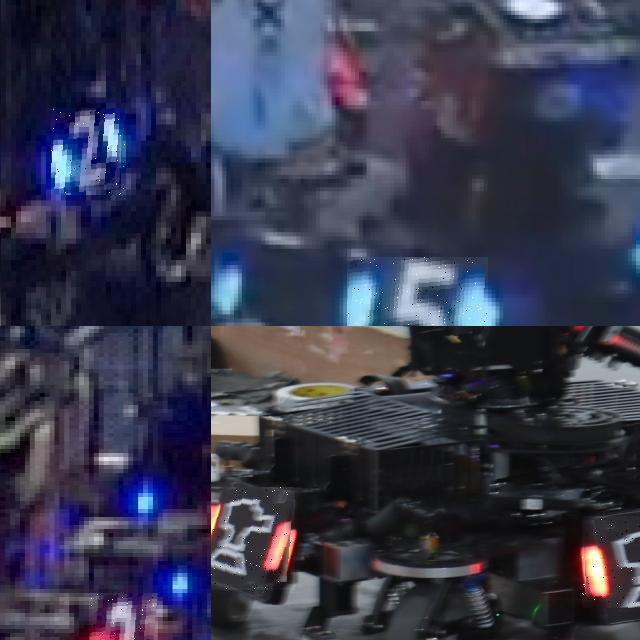B2: (51, 108, 126, 195)
B5: (347, 257, 487, 326)
R2: (89, 593, 158, 640)
Rs: (211, 486, 295, 590), (581, 515, 640, 608)
